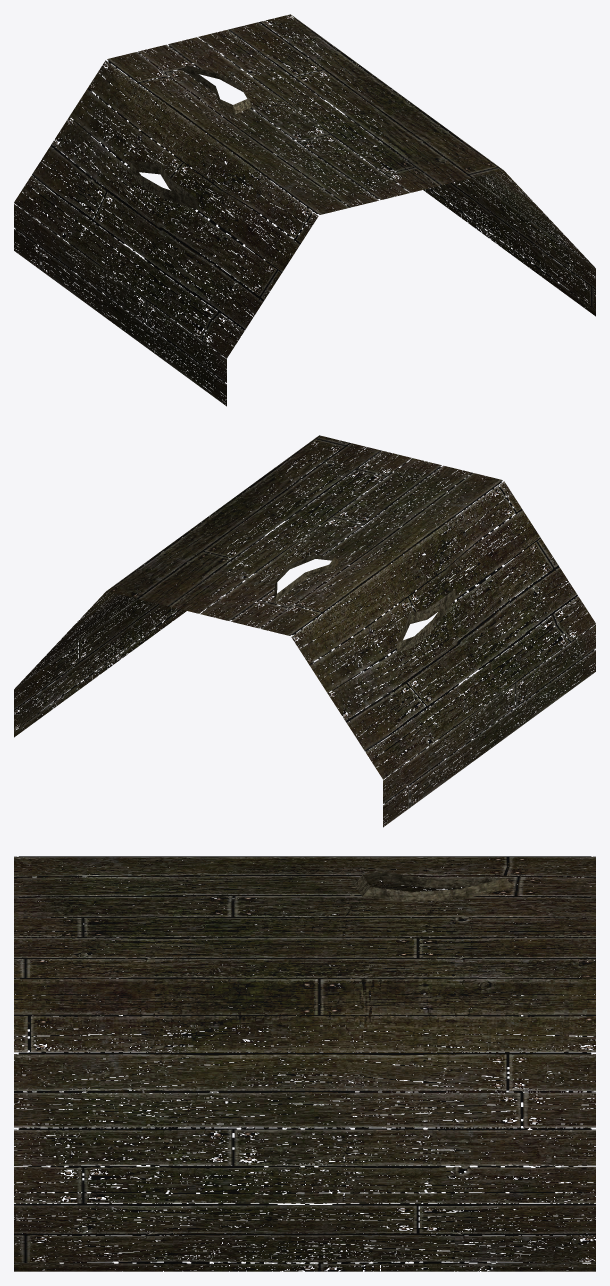
Rendered from arched_wooden_roof_damage01.dae.
3 views of the same model, one above another, from view 1: azimuth 30°, elevation 25°; view 2: azimuth 150°, elevation 25°; view 3: azimuth 270°, elevation 25° (orthographic). The views are drawn at different scales.
Parts seen in each view (by area): view 1: polySurface134, polySurface137; view 2: polySurface134, polySurface137; view 3: polySurface134, polySurface137.
Part boxes in pixels (x1,y1,x2,y2): polySurface134: (14, 14, 595, 406); polySurface137: (129, 65, 251, 209); polySurface134: (14, 435, 595, 827); polySurface137: (274, 554, 455, 652); polySurface134: (14, 856, 595, 1271); polySurface137: (253, 872, 513, 904).
Size of the model in its own units: 4 by 1.82 by 4.
